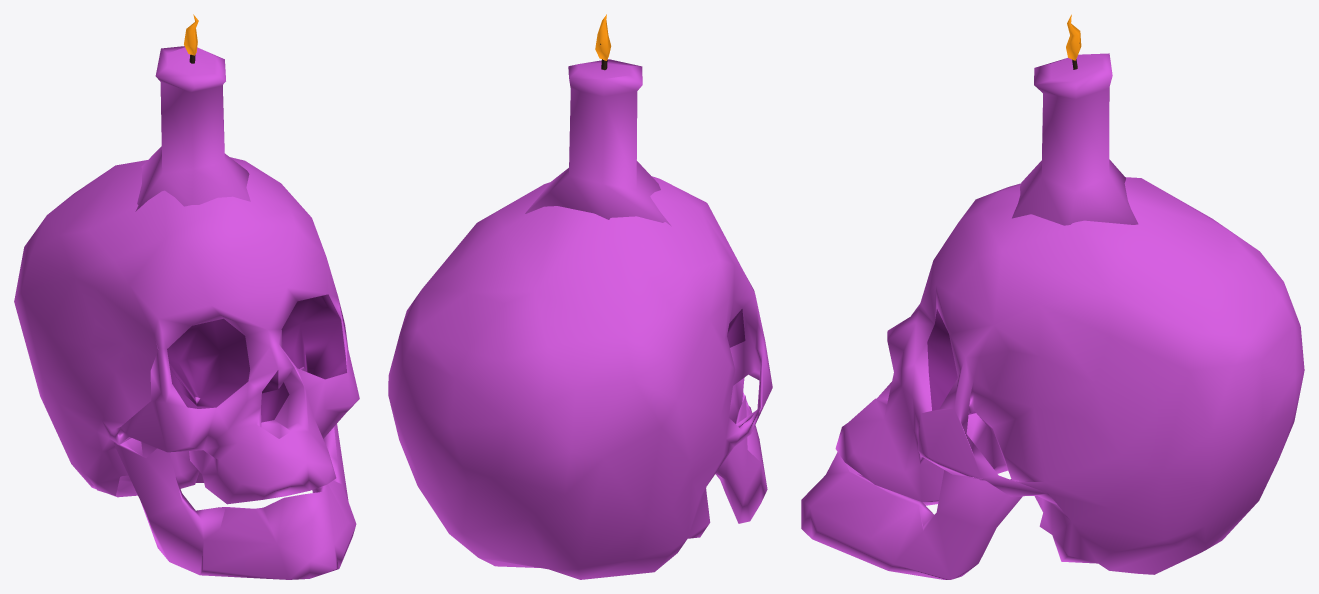
Rendered from CandleSkullShapeB.017.glb.
3 views of the same model, side by side, from view 1: azimuth 30°, elevation 25°; view 2: azimuth 150°, elevation 25°; view 3: azimuth 270°, elevation 25° (orthographic). The views are drawn at different scales.
Parts seen in each view (by area): view 1: CandleSkullShapeB.017; view 2: CandleSkullShapeB.017; view 3: CandleSkullShapeB.017.
Part boxes in pixels (box(x1,y1,x2,y2)): CandleSkullShapeB.017: box(14, 14, 359, 579); CandleSkullShapeB.017: box(388, 14, 772, 579); CandleSkullShapeB.017: box(801, 14, 1304, 579).
Size of the model in its own units: 0.2005 by 0.3649 by 0.3132.
Materials: 2 (2 with a texture image).
